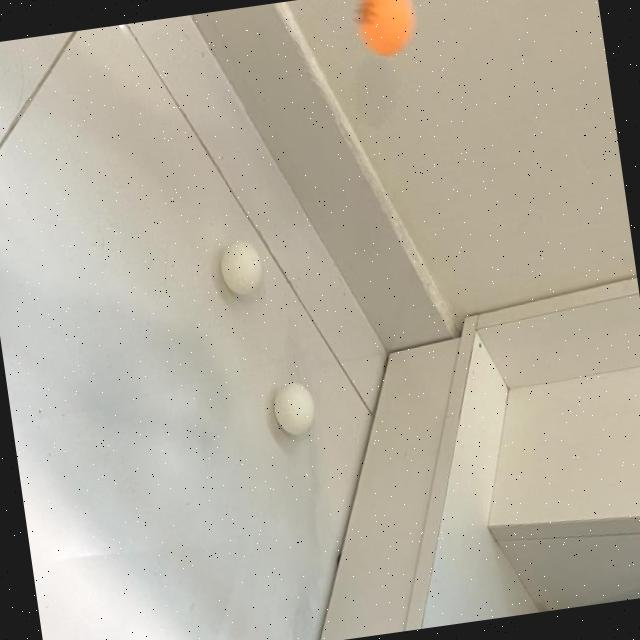ping-pong-ball: (352, 0, 415, 58), (215, 236, 265, 298), (269, 377, 317, 437)
